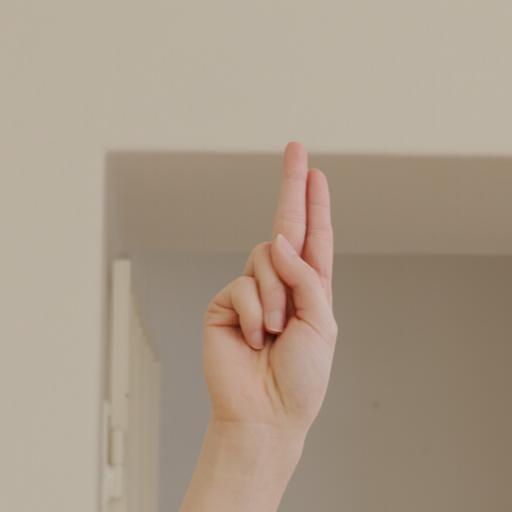U: (178, 128, 358, 446)
